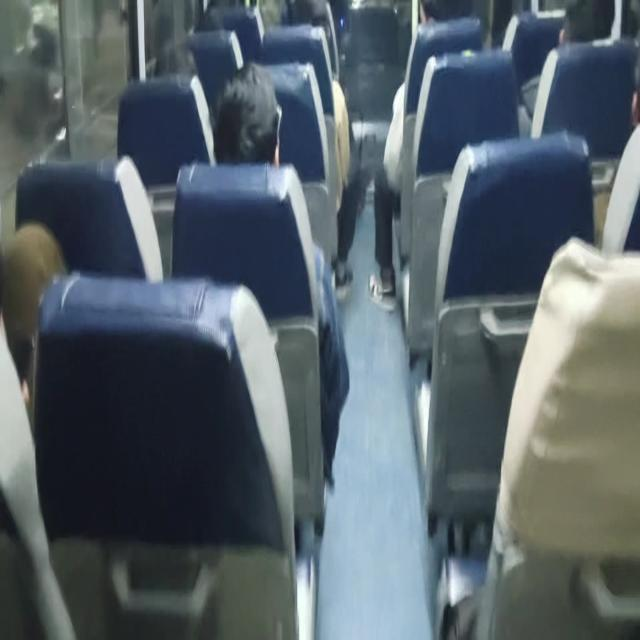person: (217, 71, 296, 159), (556, 0, 615, 54), (409, 0, 455, 46), (614, 46, 640, 119)
